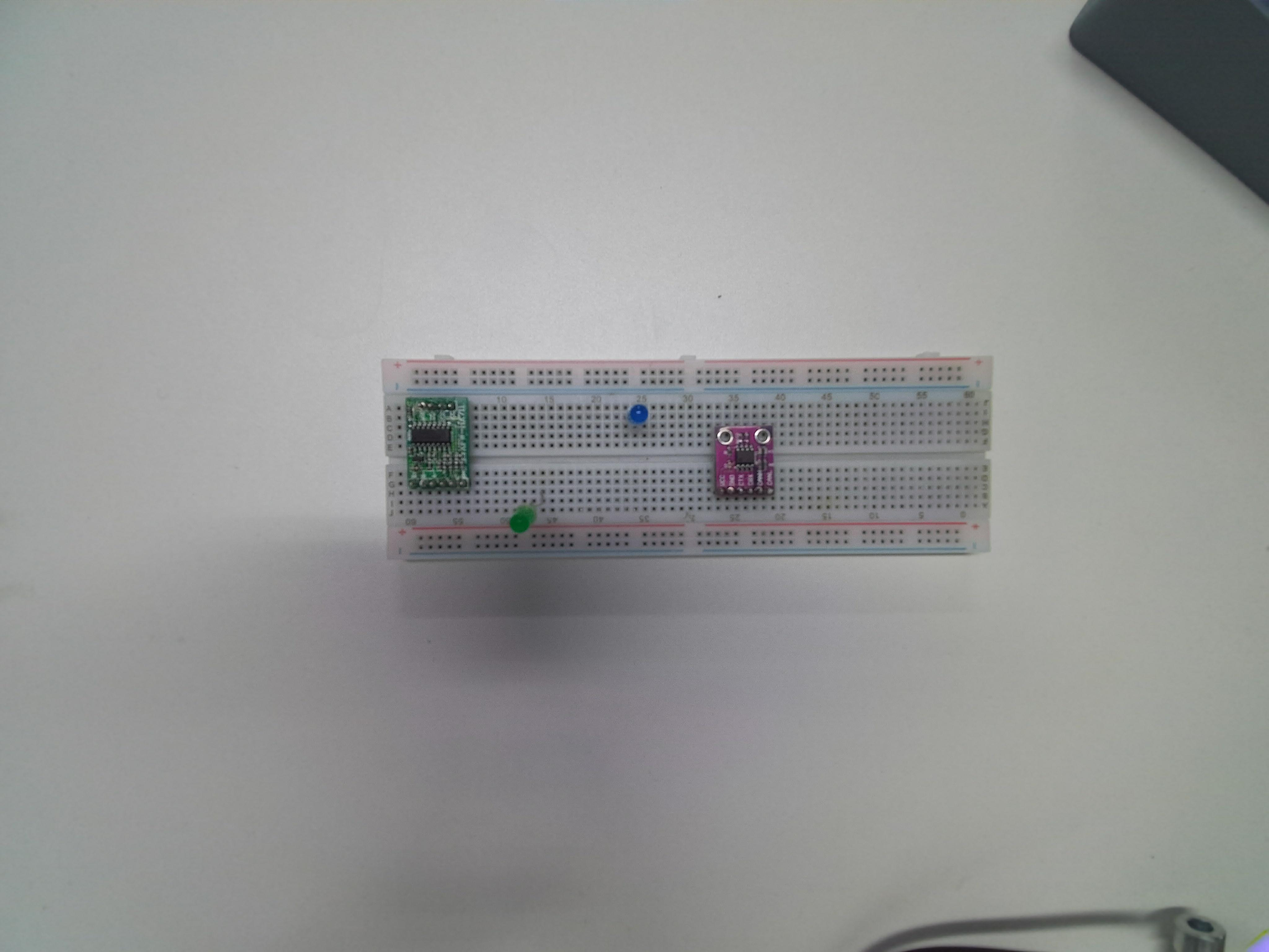base: (382, 356, 994, 559)
blue-led: (628, 402, 649, 426)
green-board: (403, 392, 472, 496)
green-led: (509, 506, 533, 535)
purple-board: (713, 424, 775, 499)
